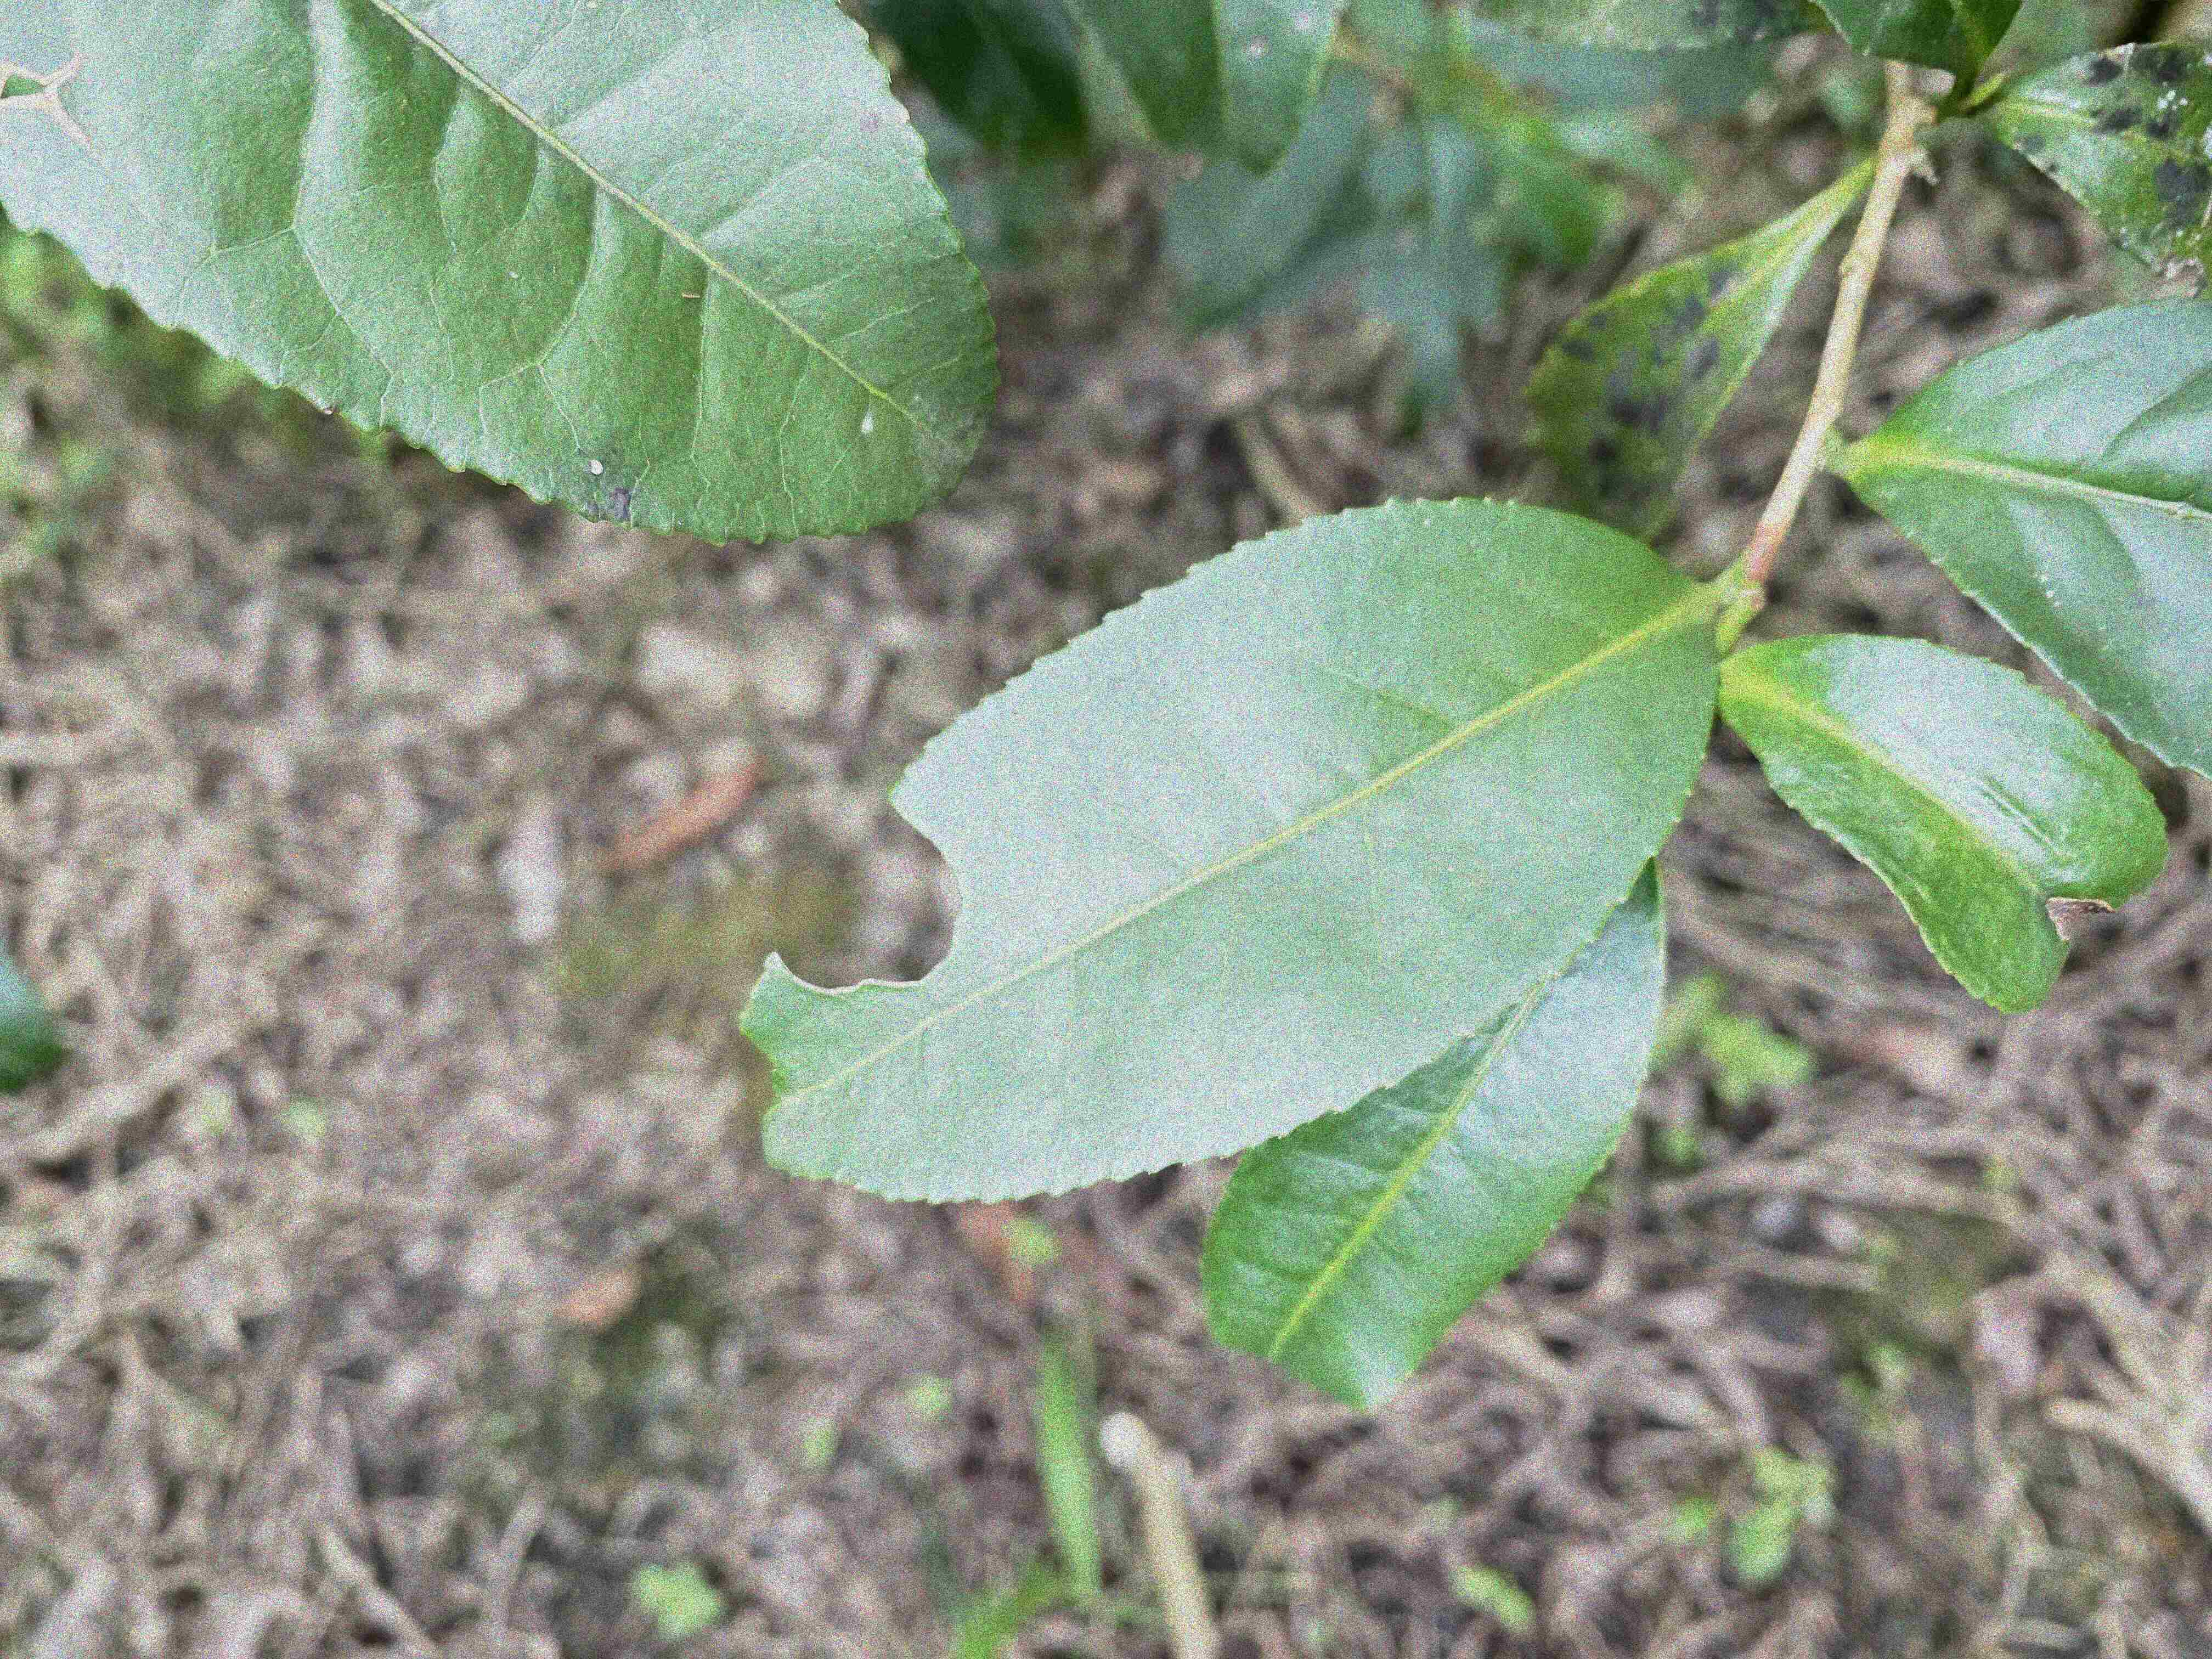chihuo_high: (735, 493, 1717, 1209)
tanju_low: (1719, 634, 2172, 1016)
